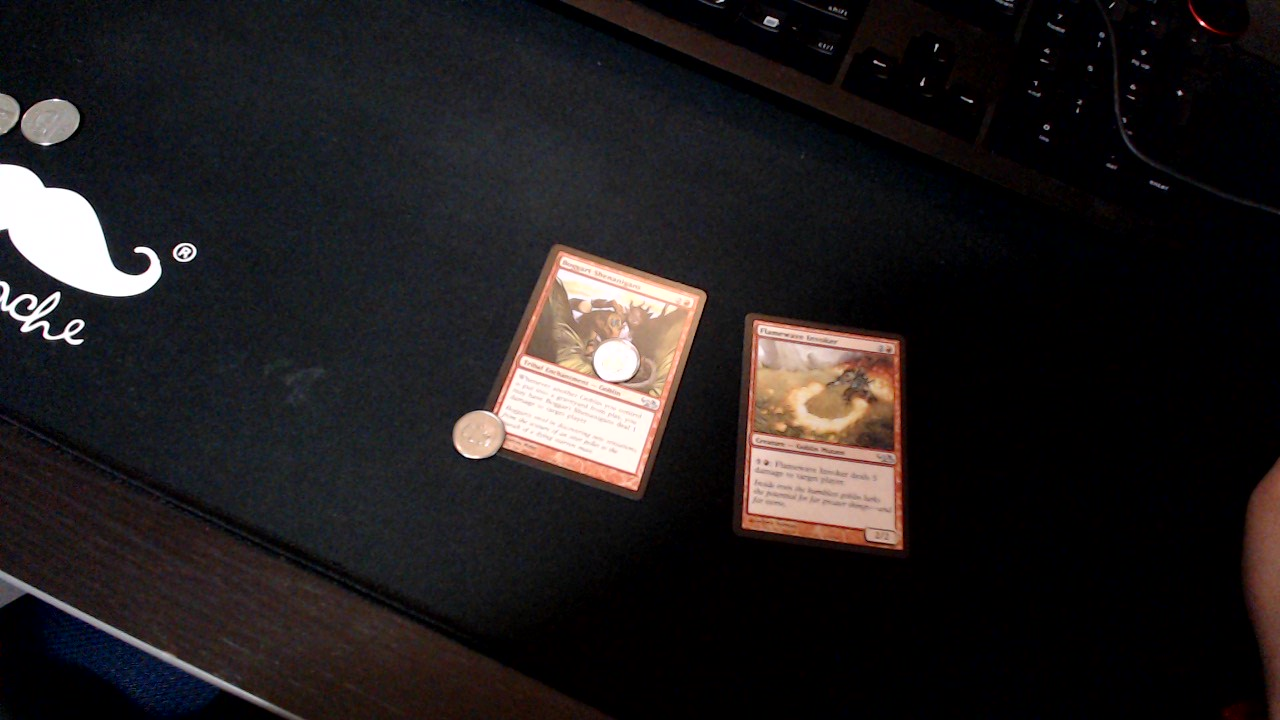MTG Card: (473, 236, 709, 508), (733, 310, 914, 558)
